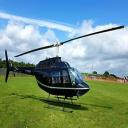helicopter: (5, 26, 126, 115)
